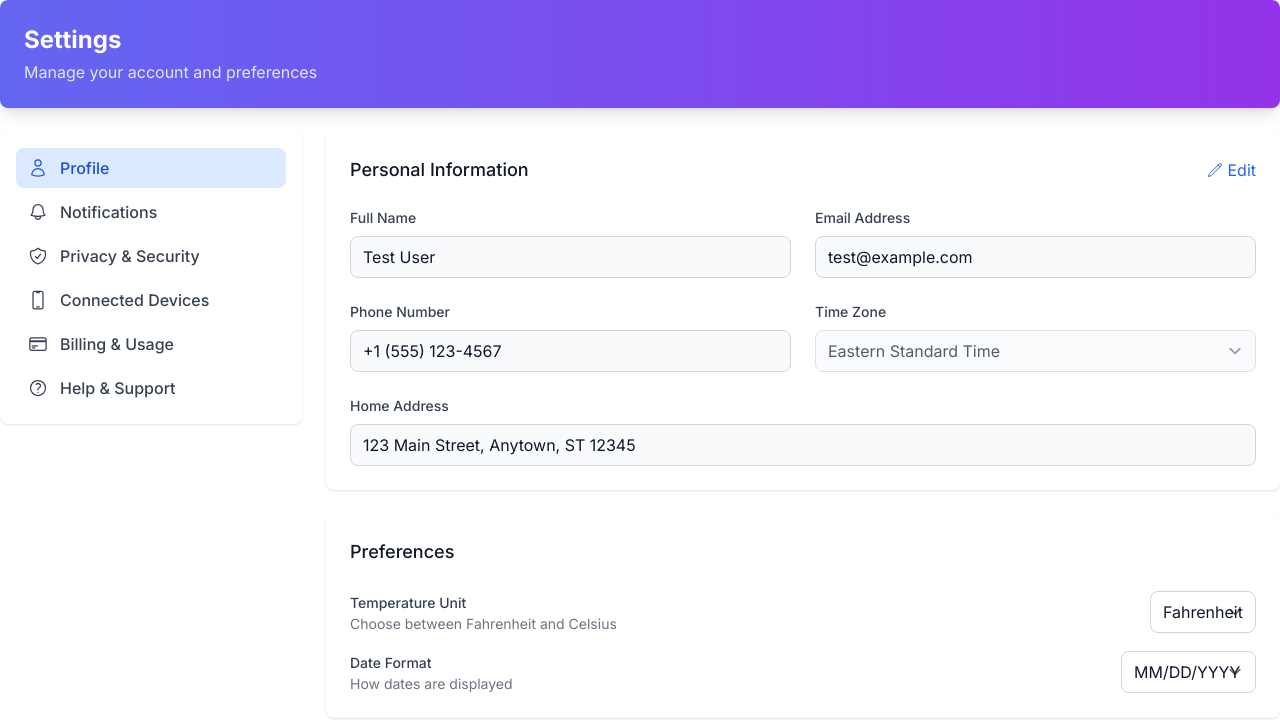
ConsumerSettings › Navigation › switches to notifications section when clicked
Click the button "Notifications".
click(151, 212)  # box [16,192,286,232]
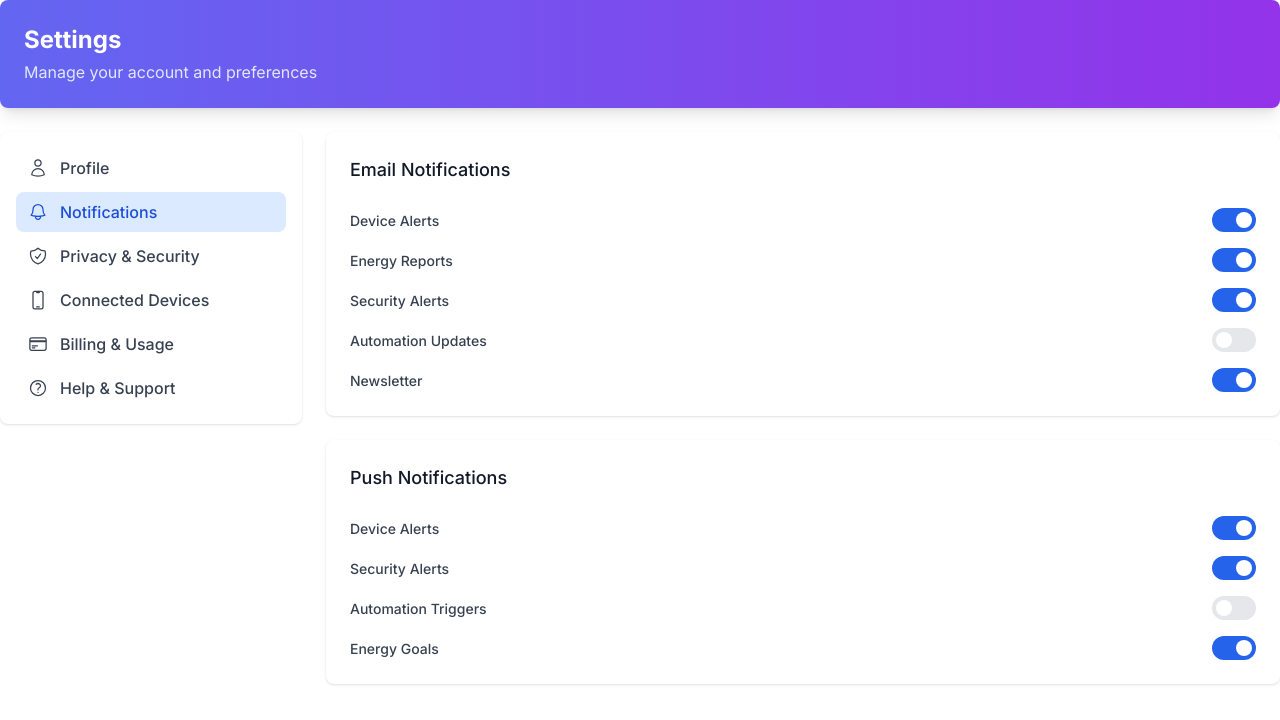
Now the heading "Email Notifications" is shown, box [350,159,510,180]
Now the heading "Push Notifications" is shown, box [350,467,507,488]
